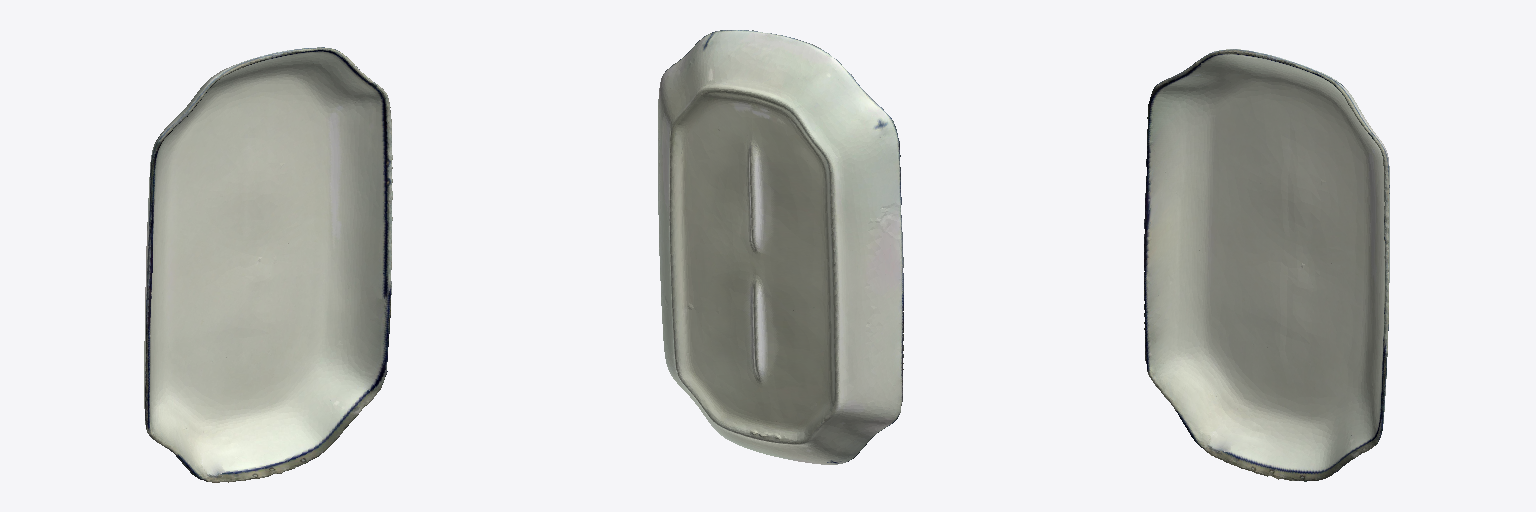
The picture shows the model from 3 angles: view 1: azimuth 30°, elevation 25°; view 2: azimuth 150°, elevation 25°; view 3: azimuth 330°, elevation 25°; orthographic projection.
Size of the model in its own units: 162 by 265 by 34.29.
1 materials, 1 textured.